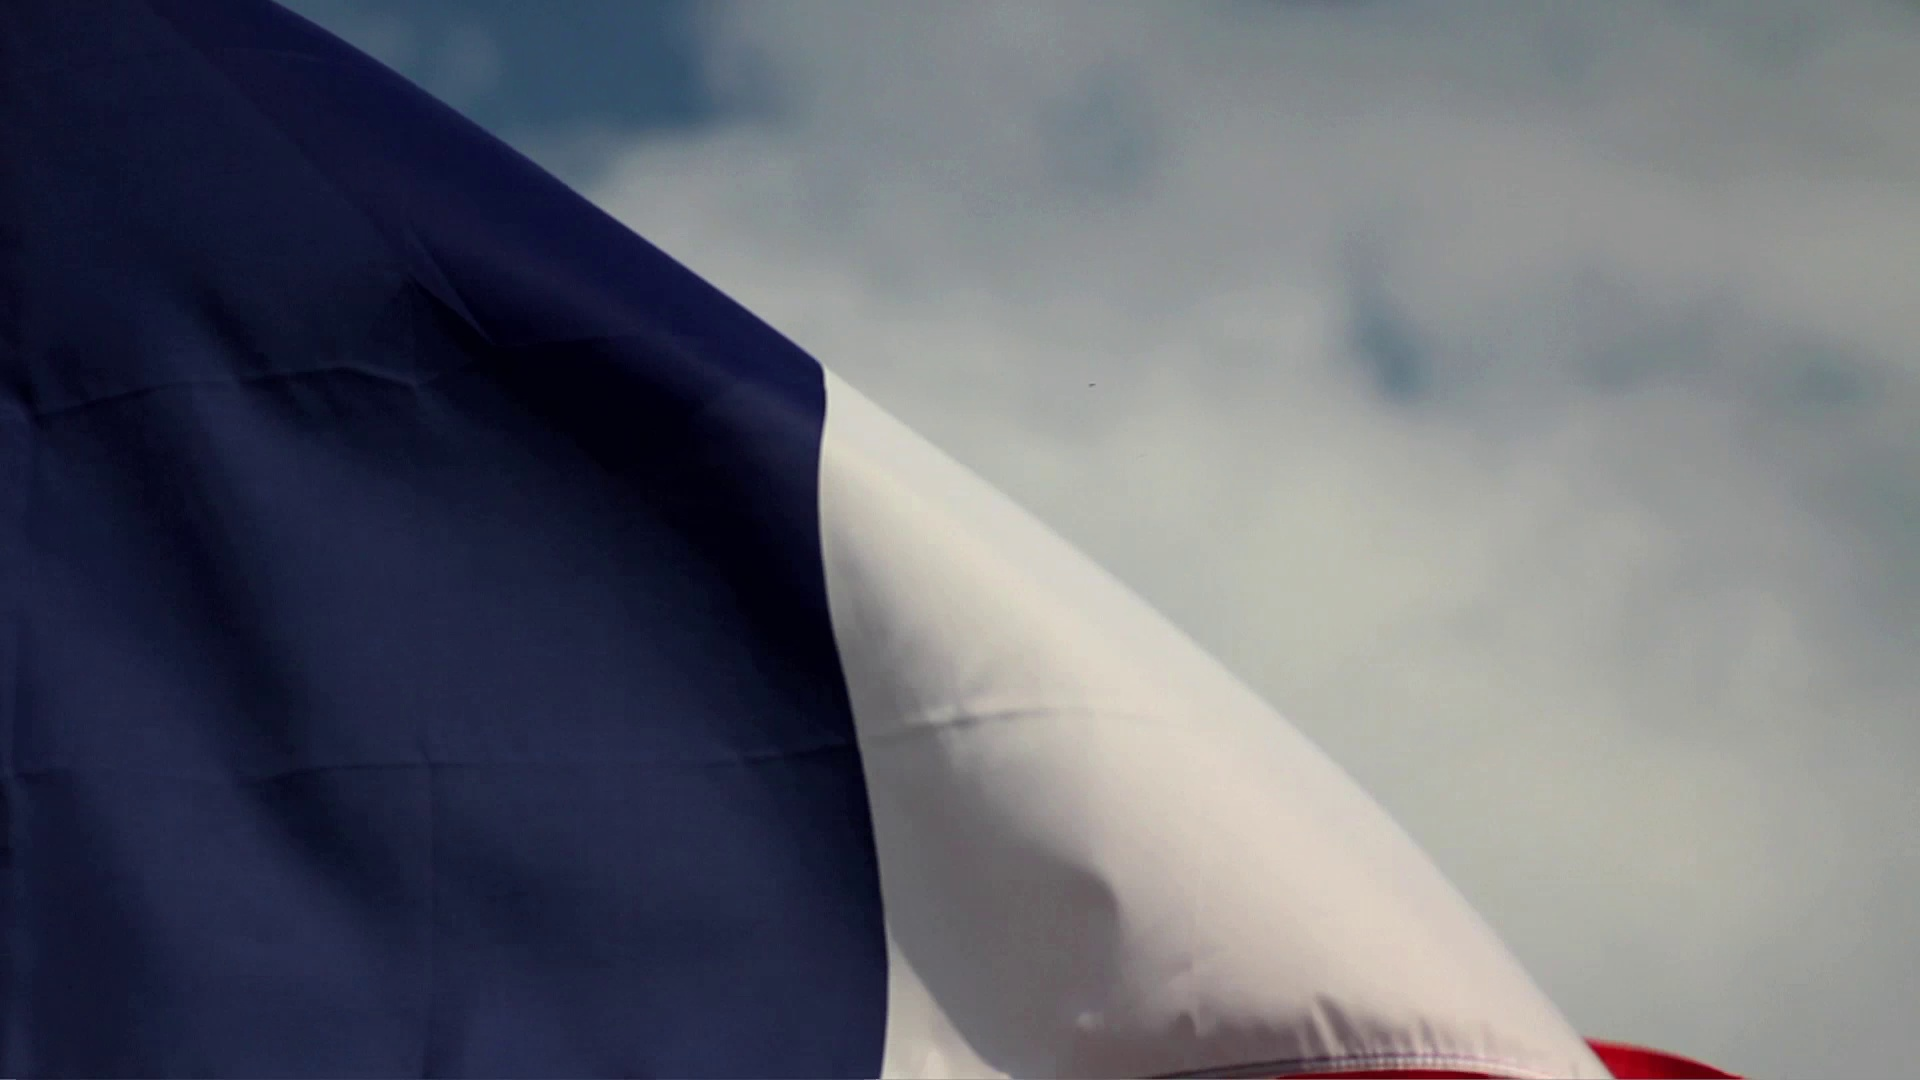French Flag: (1, 1, 1756, 1080)
